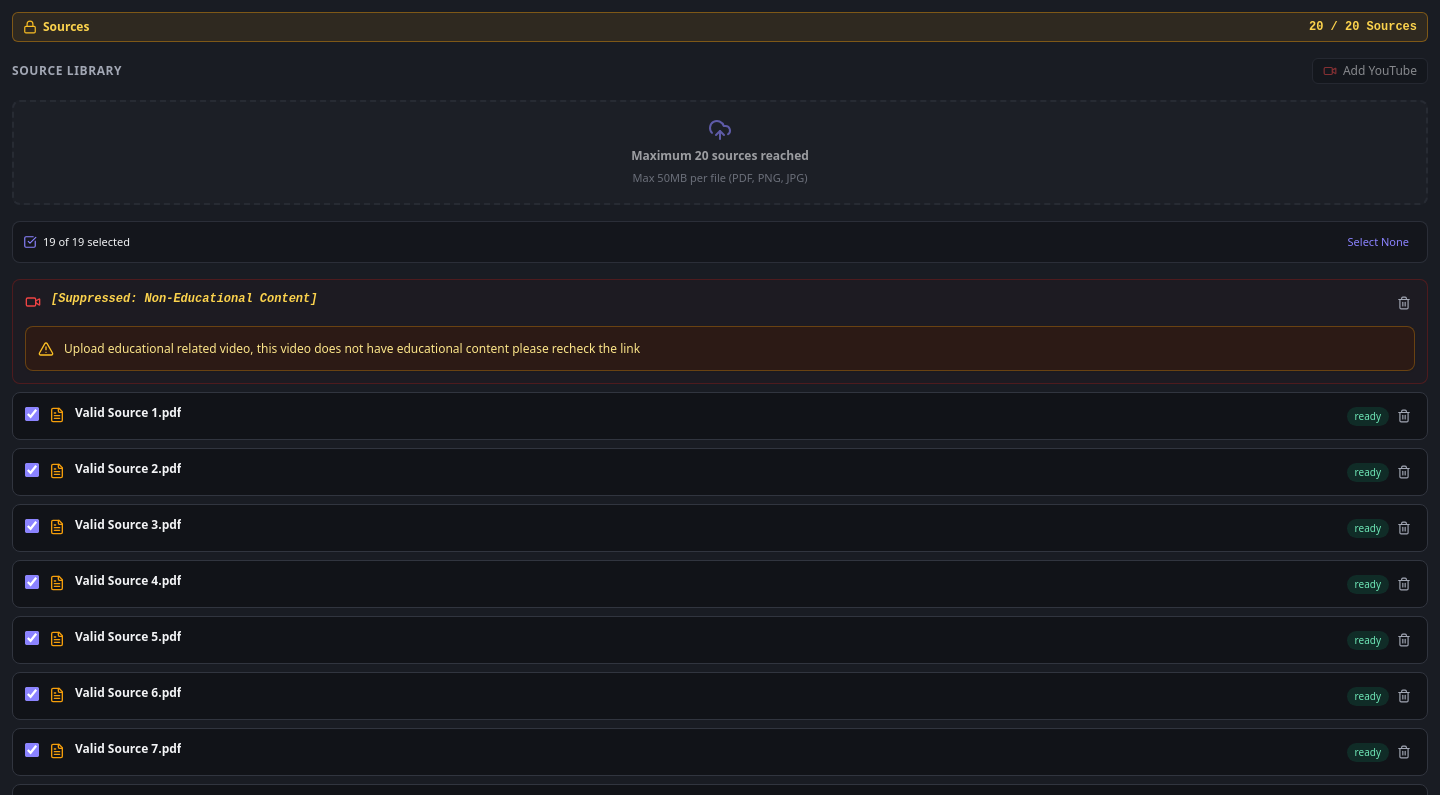
Test: Adversarial Challenge: Moderation Barrier & Quota Enforcement › Challenge Dimension 1: YouTube Educational Moderation Barrier UI › 1.4 Preservation of source deletion to reclaim quota for rejected YouTube source
The width and height of the screenshot is (1440, 795).
Expected: the text with test id "quota-counter" reads "20 / 20 Sources", [1309, 19, 1417, 35]
Expected: the button with test id "open-youtube-modal-btn" is disabled, [1312, 58, 1428, 84]
// Find the rejected card and click delete
Click the 1st button with test id "delete-source-btn": (1404, 302) [1393, 292, 1415, 314]
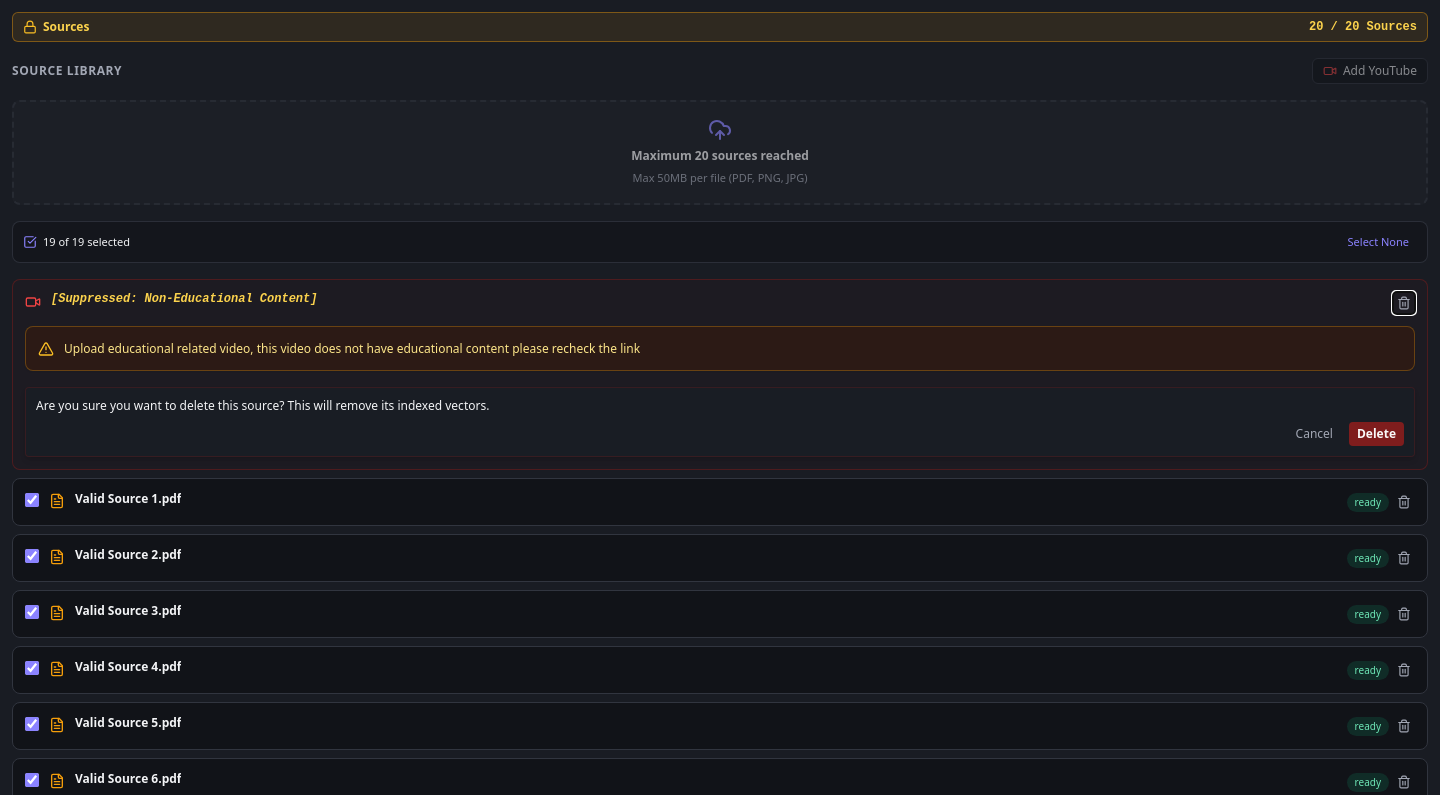
// Confirm deletion
Click the button with test id "confirm-delete-btn": (1376, 434) [1349, 422, 1404, 446]
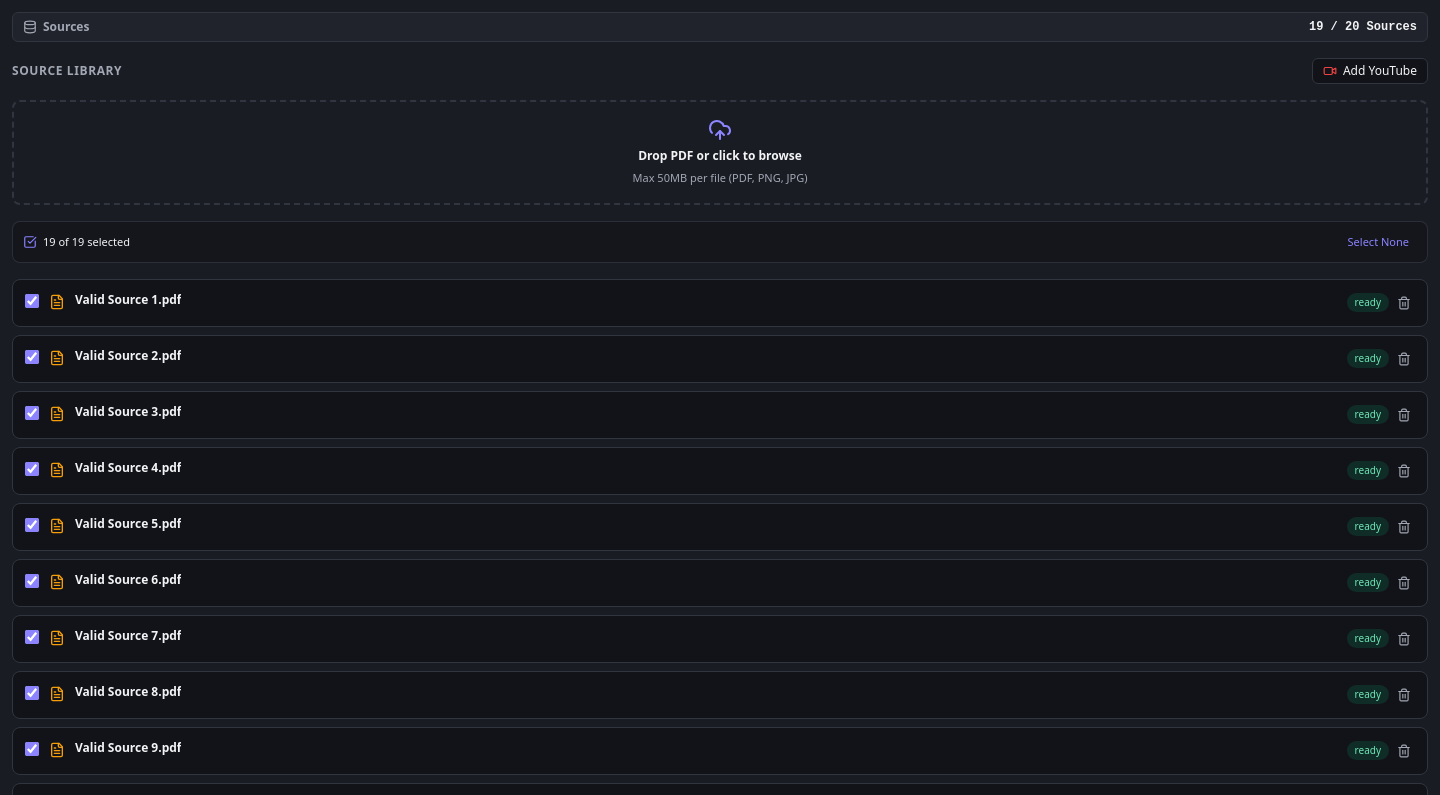
Result: the text with test id "quota-counter" reads "19 / 20 Sources" at [1309, 19, 1417, 35]
Result: the button with test id "open-youtube-modal-btn" is enabled at [1312, 58, 1428, 84]
